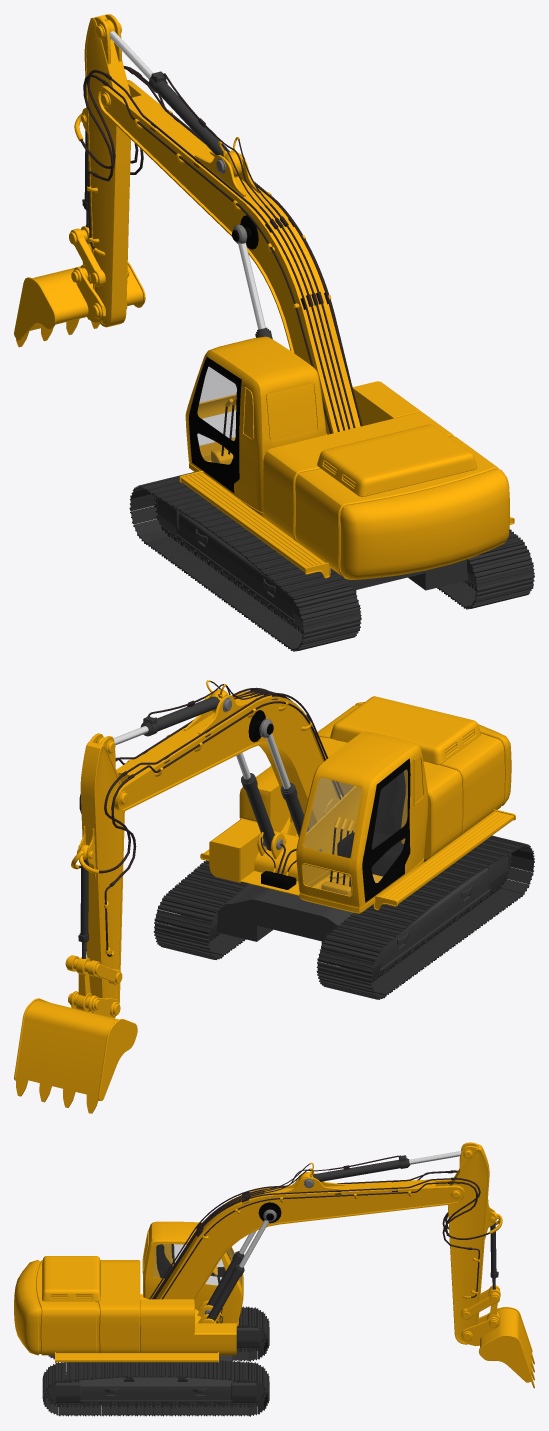
File: excavator.glb
The picture shows the model from 3 angles, top to bottom: view 1: azimuth 30°, elevation 25°; view 2: azimuth 150°, elevation 25°; view 3: azimuth 270°, elevation 25°; orthographic projection. The views are drawn at different scales.
Visible parts, largest first — view 1: cngien_chamber, arm, cab, trake_shoe_assembly, arm_link, roller_chamber, bucket, trake_shoe_assembly001, boom_cylinder, bucket_link; view 2: cngien_chamber, cab, arm, trake_shoe_assembly, bucket, roller_chamber, arm_link, trake_shoe_assembly001, boom_cylinder, bucket_link, bucket_cylinder; view 3: cngien_chamber, arm, trake_shoe_assembly001, roller_chamber, arm_link, cab, bucket, boom_cylinder, bucket_link, trake_shoe_assembly, bucket_cylinder.
Part boxes in pixels (bbox=[...]): cngien_chamber: bbox=[179, 381, 514, 579]; arm: bbox=[84, 14, 360, 434]; cab: bbox=[185, 336, 326, 517]; trake_shoe_assembly: bbox=[129, 472, 361, 651]; arm_link: bbox=[74, 14, 362, 433]; roller_chamber: bbox=[157, 498, 475, 628]; bucket: bbox=[14, 261, 145, 347]; trake_shoe_assembly001: bbox=[437, 529, 534, 609]; boom_cylinder: bbox=[109, 31, 272, 339]; bucket_link: bbox=[69, 66, 143, 319]; cngien_chamber: bbox=[200, 696, 515, 910]; cab: bbox=[296, 731, 428, 913]; arm: bbox=[80, 691, 339, 1004]; trake_shoe_assembly: bbox=[316, 835, 534, 999]; bucket: bbox=[14, 991, 137, 1113]; roller_chamber: bbox=[195, 855, 508, 977]; arm_link: bbox=[71, 680, 343, 889]; trake_shoe_assembly001: bbox=[153, 860, 248, 959]; boom_cylinder: bbox=[113, 696, 309, 850]; bucket_link: bbox=[65, 777, 136, 1016]; bucket_cylinder: bbox=[78, 859, 88, 958]; cngien_chamber: bbox=[14, 1256, 236, 1362]; arm: bbox=[156, 1144, 489, 1344]; trake_shoe_assembly001: bbox=[42, 1360, 269, 1416]; roller_chamber: bbox=[56, 1326, 263, 1405]; arm_link: bbox=[149, 1142, 502, 1323]; cab: bbox=[142, 1221, 243, 1326]; bucket: bbox=[460, 1307, 534, 1388]; boom_cylinder: bbox=[206, 1151, 461, 1320]; bucket_link: bbox=[442, 1172, 500, 1340]; trake_shoe_assembly: bbox=[48, 1306, 269, 1361]; bucket_cylinder: bbox=[490, 1222, 498, 1289].
Size of the model in its own units: 3.07 by 4.71 by 9.24.
